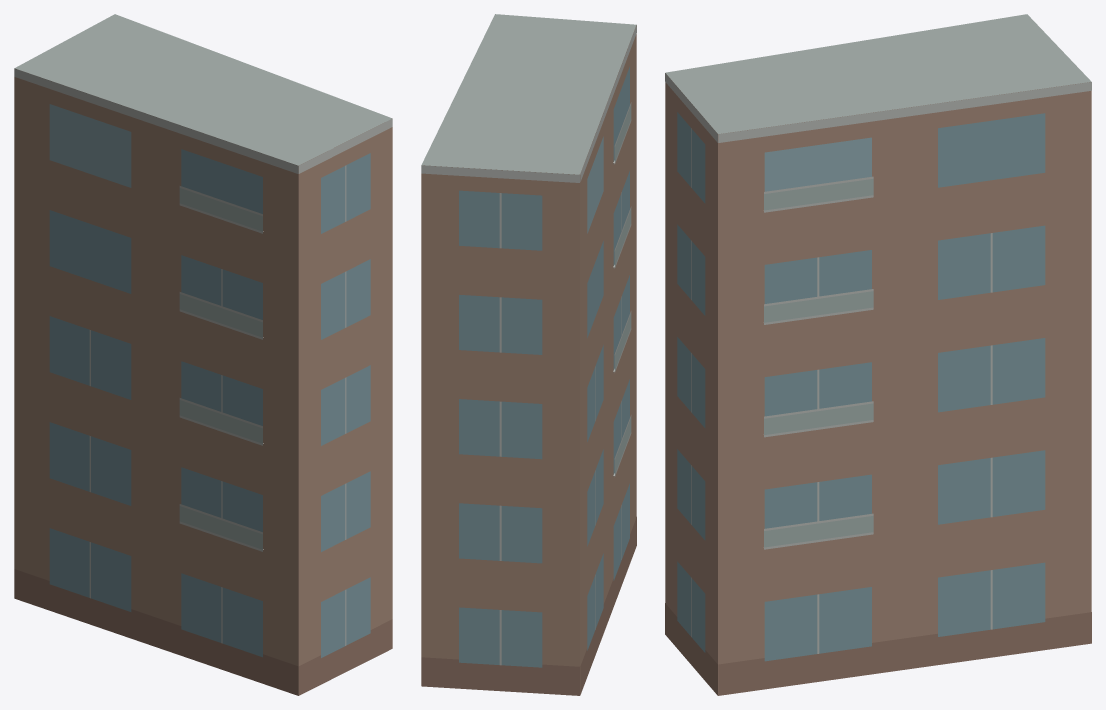
Rendered from survey-upis-32502927.glb.
The picture shows the model from 3 angles, left to right: view 1: azimuth 30°, elevation 25°; view 2: azimuth 150°, elevation 25°; view 3: azimuth 270°, elevation 25°; orthographic projection. The views are drawn at different scales.
Parts seen in each view (by area): view 1: survey-upis-32502927.tmp; view 2: survey-upis-32502927.tmp; view 3: survey-upis-32502927.tmp.
Part boxes in pixels (x1,y1,x2,y2): survey-upis-32502927.tmp: (14, 14, 392, 695); survey-upis-32502927.tmp: (421, 14, 636, 695); survey-upis-32502927.tmp: (665, 14, 1091, 695).
Size of the model in its own units: 7.01 by 15.25 by 10.51.
